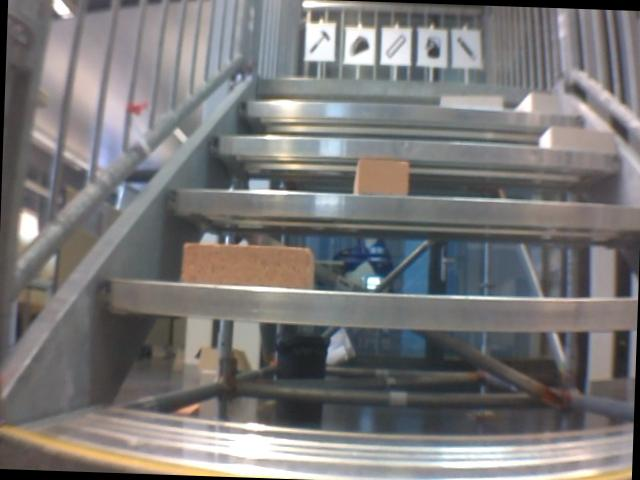brick: (183, 243, 313, 288), (352, 157, 407, 196), (539, 125, 614, 152), (441, 94, 503, 110), (516, 92, 562, 113)
bucket: (422, 34, 445, 63)
edge: (99, 278, 638, 337), (166, 188, 640, 229), (212, 135, 623, 170), (237, 100, 581, 129), (258, 77, 544, 97)
hammer: (304, 27, 333, 58)
pencil: (454, 35, 477, 63)
ruler: (383, 32, 408, 62)
taco: (347, 33, 370, 59)
